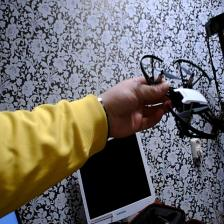drone: (136, 47, 224, 147)
